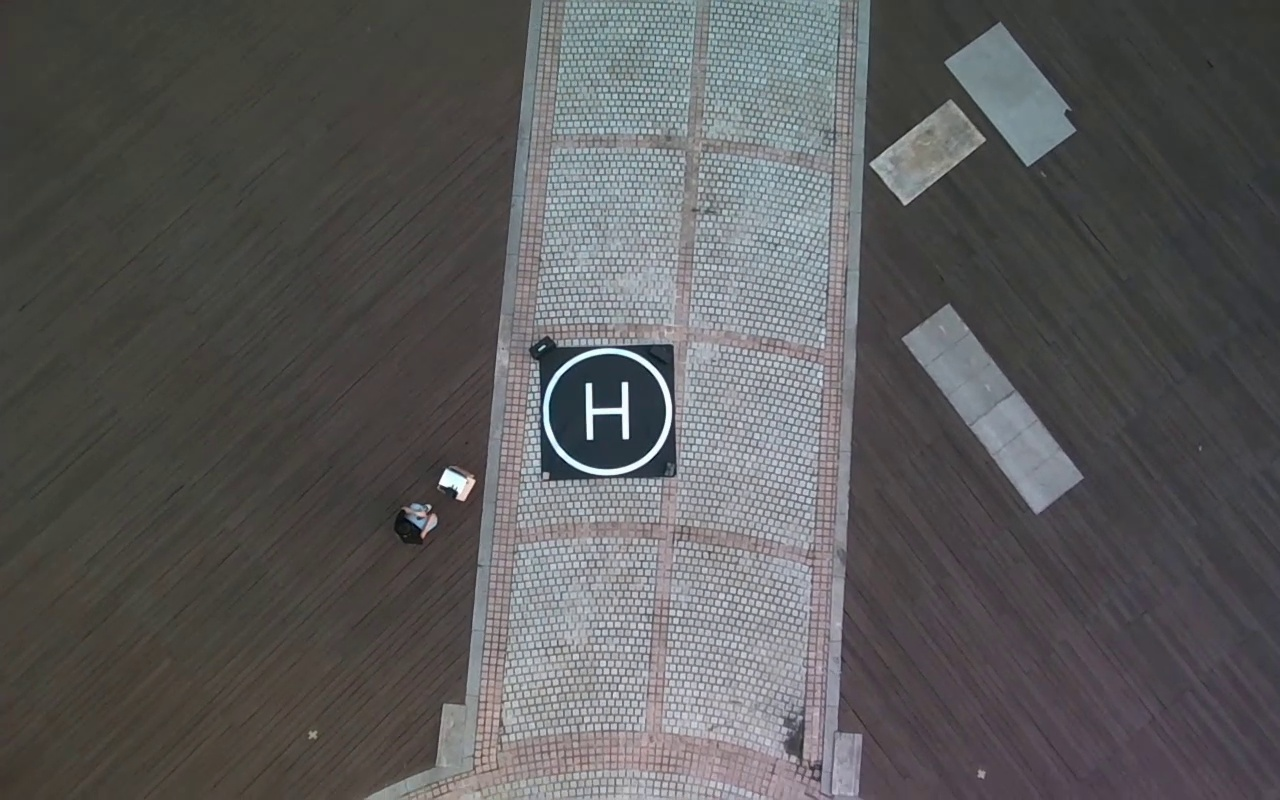H: (584, 379, 629, 441)
heliport: (541, 347, 673, 477)
